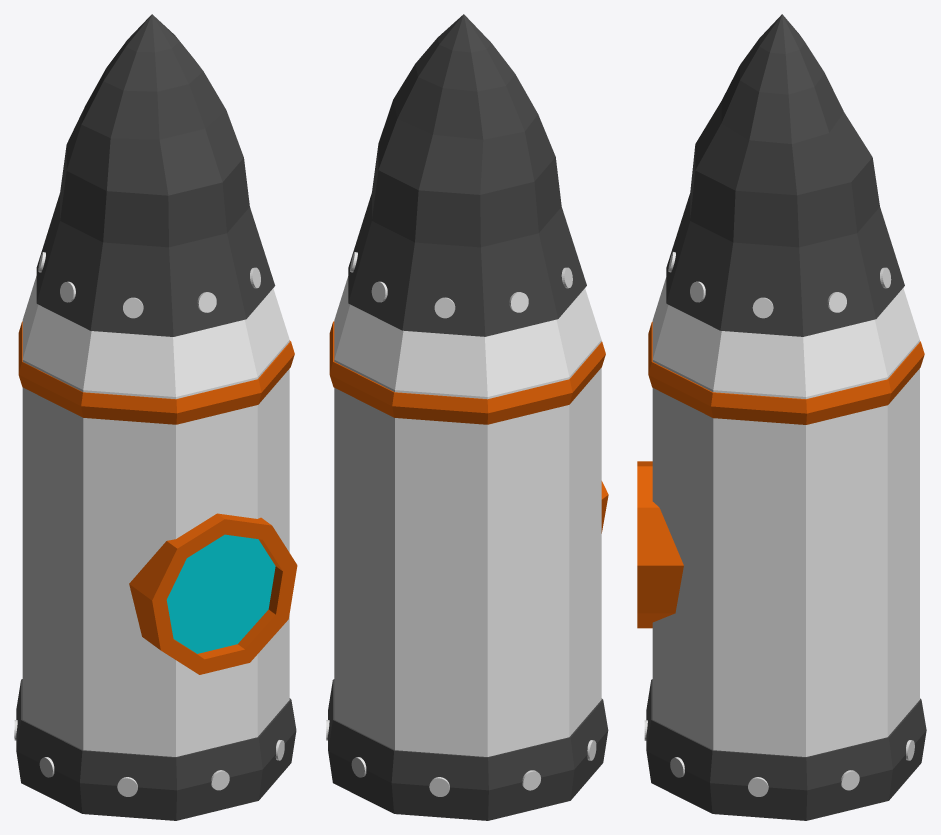
Rendered from Rocket Head 2.fbx.
3 views of the same model, side by side, from view 1: azimuth 30°, elevation 25°; view 2: azimuth 150°, elevation 25°; view 3: azimuth 270°, elevation 25° (orthographic).
Parts seen in each view (by area): view 1: Окружность.014; view 2: Окружность.014; view 3: Окружность.014.
Boxes of the visible parts, x1=… form: Окружность.014: x1=14, y1=14, x2=297, y2=820; Окружность.014: x1=326, y1=14, x2=608, y2=820; Окружность.014: x1=637, y1=14, x2=926, y2=820.
Size of the model in its own units: 207 by 600 by 210.
